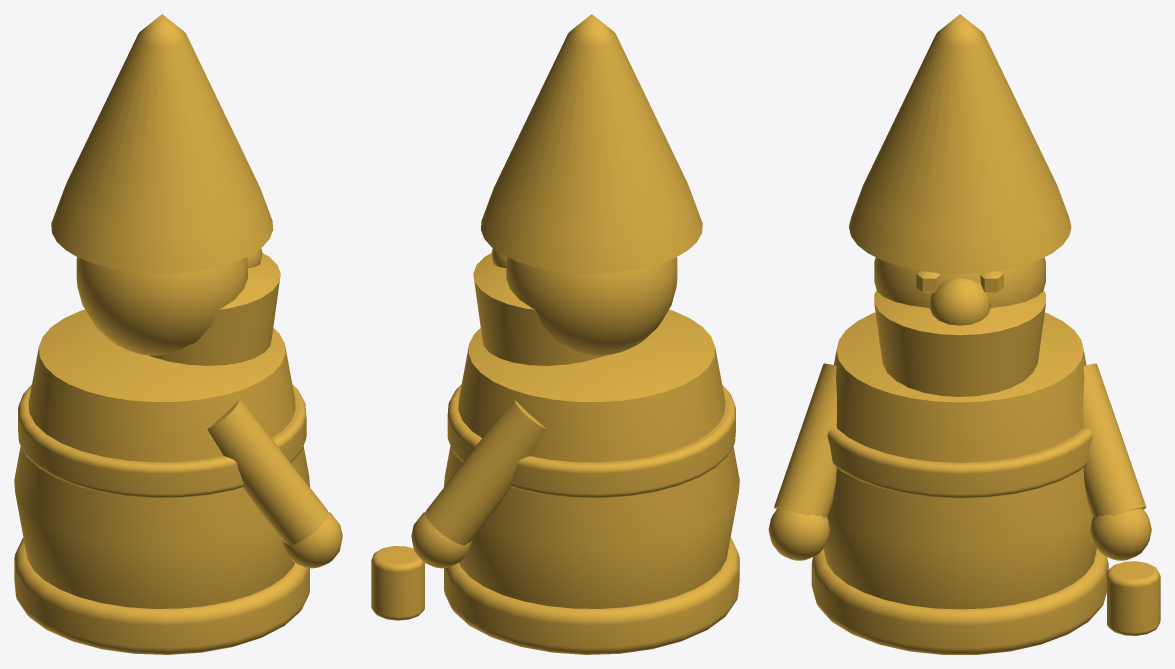
File: golden_gnome.glb
The picture shows the model from 3 angles, left to right: view 1: azimuth 30°, elevation 25°; view 2: azimuth 150°, elevation 25°; view 3: azimuth 270°, elevation 25°; orthographic projection.
Visible parts, largest first — view 1: golden_gnome; view 2: golden_gnome; view 3: golden_gnome.
Boxes of the visible parts, left/top/right/bottom form: golden_gnome: left=14, top=14, right=342, bottom=654; golden_gnome: left=371, top=14, right=739, bottom=654; golden_gnome: left=768, top=14, right=1160, bottom=654.
Bounding box in the file's own units: 0.2418 × 0.52 × 0.317.
Materials: 1 (1 with a texture image).
